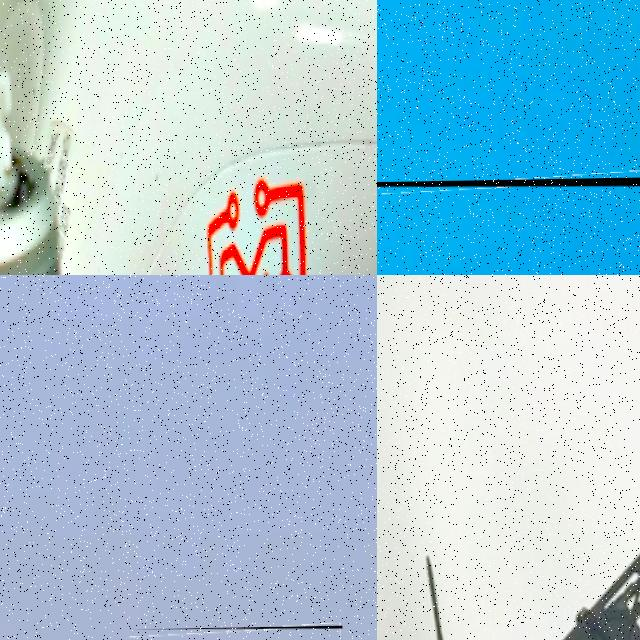drone: (0, 0, 377, 275), (377, 275, 640, 640), (377, 176, 640, 275)
